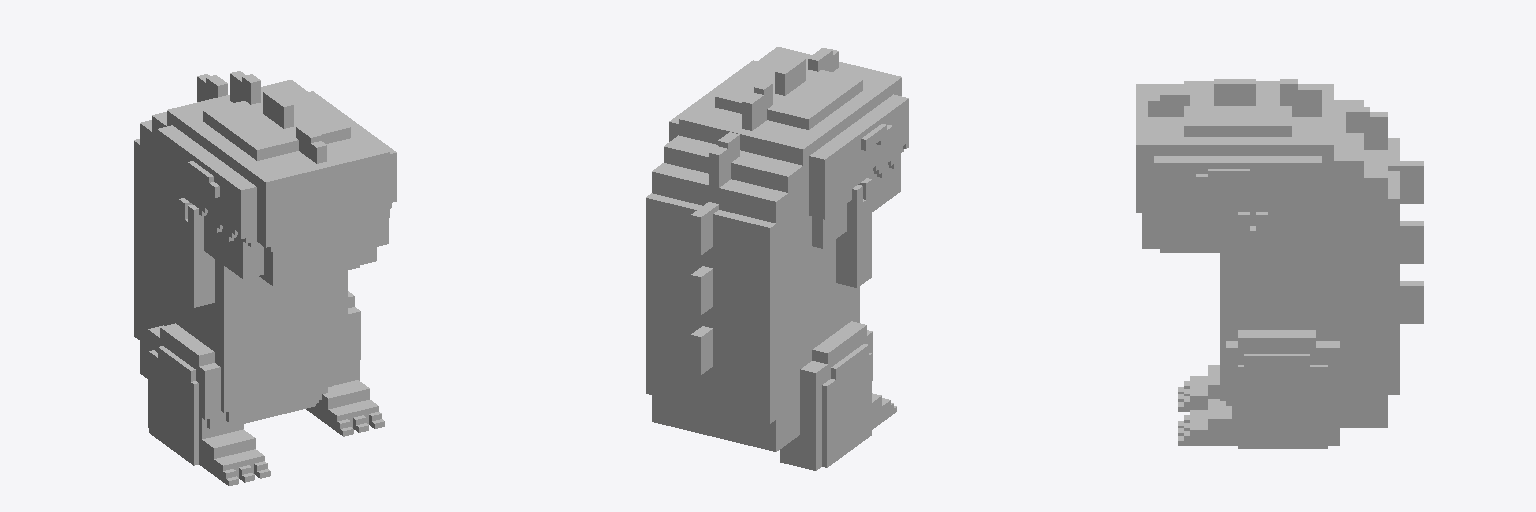
Rendered from Kaiju-holdR.obj.
3 views of the same model, side by side, from view 1: azimuth 30°, elevation 25°; view 2: azimuth 150°, elevation 25°; view 3: azimuth 270°, elevation 25° (orthographic).
Size of the model in its own units: 32 by 64 by 48.